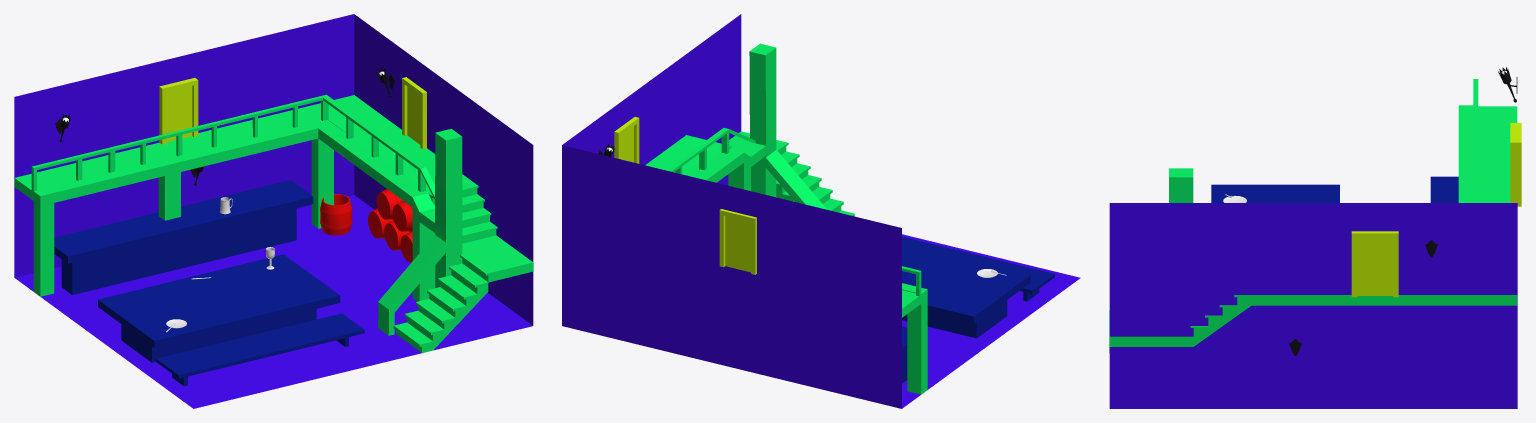
The model's file is Bar.fbx.
3 renders of one model, left to right at view 1: azimuth 30°, elevation 25°; view 2: azimuth 150°, elevation 25°; view 3: azimuth 270°, elevation 25°, orthographic. The views are drawn at different scales.
Visible parts, largest first — view 1: floor_walls, stairs, table, door, door003, Barrel005, Barrel004, Barrel003; view 2: floor_walls, stairs, table, door, door003; view 3: floor_walls, stairs, door003, table, door.
Boxes of the visible parts, <box> form: floor_walls: <box>14,14,533,408</box>; stairs: <box>14,94,533,353</box>; table: <box>54,180,364,386</box>; door: <box>159,78,198,144</box>; door003: <box>402,77,426,149</box>; Barrel005: <box>320,194,352,235</box>; Barrel004: <box>392,201,412,231</box>; Barrel003: <box>376,189,402,219</box>; floor_walls: <box>562,14,1080,408</box>; stairs: <box>645,43,927,394</box>; table: <box>902,236,1054,383</box>; door: <box>719,209,756,274</box>; door003: <box>614,117,639,163</box>; floor_walls: <box>1109,203,1517,408</box>; stairs: <box>1109,79,1517,352</box>; door003: <box>1351,231,1398,297</box>; table: <box>1211,176,1458,202</box>; door: <box>1510,123,1521,206</box>.
Bounding box in the file's own units: 233 × 118 × 212.
